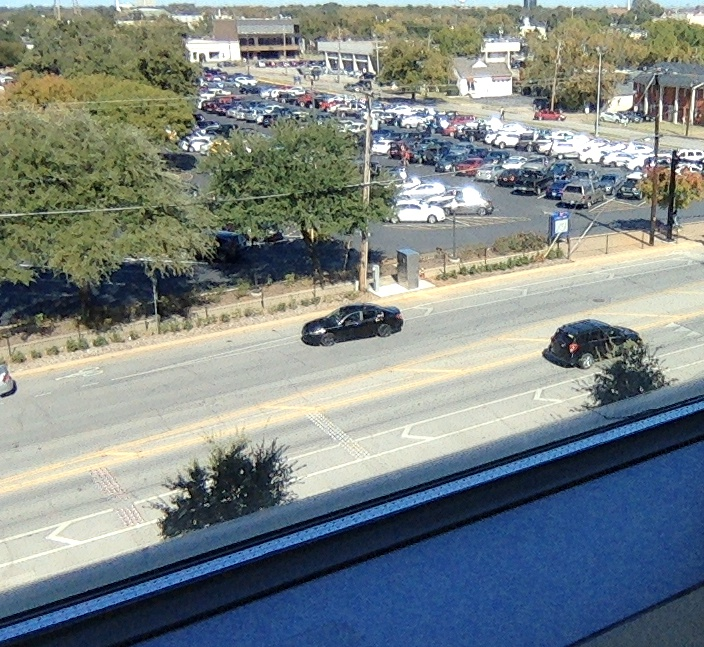car: (300, 300, 404, 347)
